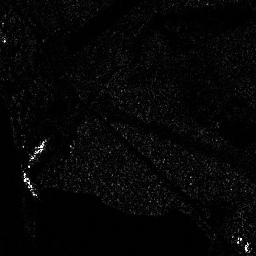ship: (21, 170, 38, 197), (30, 138, 48, 161)
